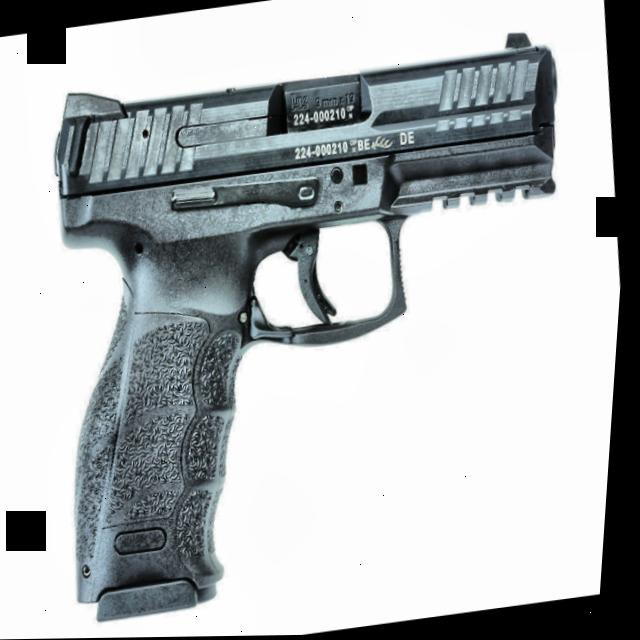HKVP9: (18, 21, 621, 627)
